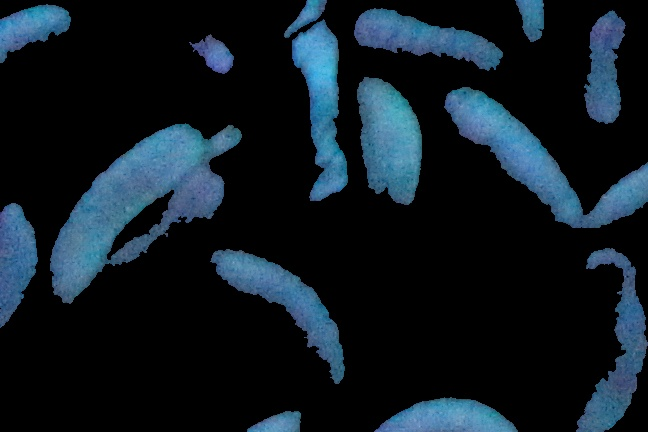larvae: (43, 124, 202, 300), (210, 243, 349, 386), (451, 95, 573, 220), (112, 171, 230, 275), (585, 250, 648, 426), (352, 76, 422, 223), (353, 6, 502, 73), (366, 386, 518, 432), (579, 9, 629, 127), (1, 200, 38, 348), (585, 160, 648, 236), (1, 1, 72, 65)
